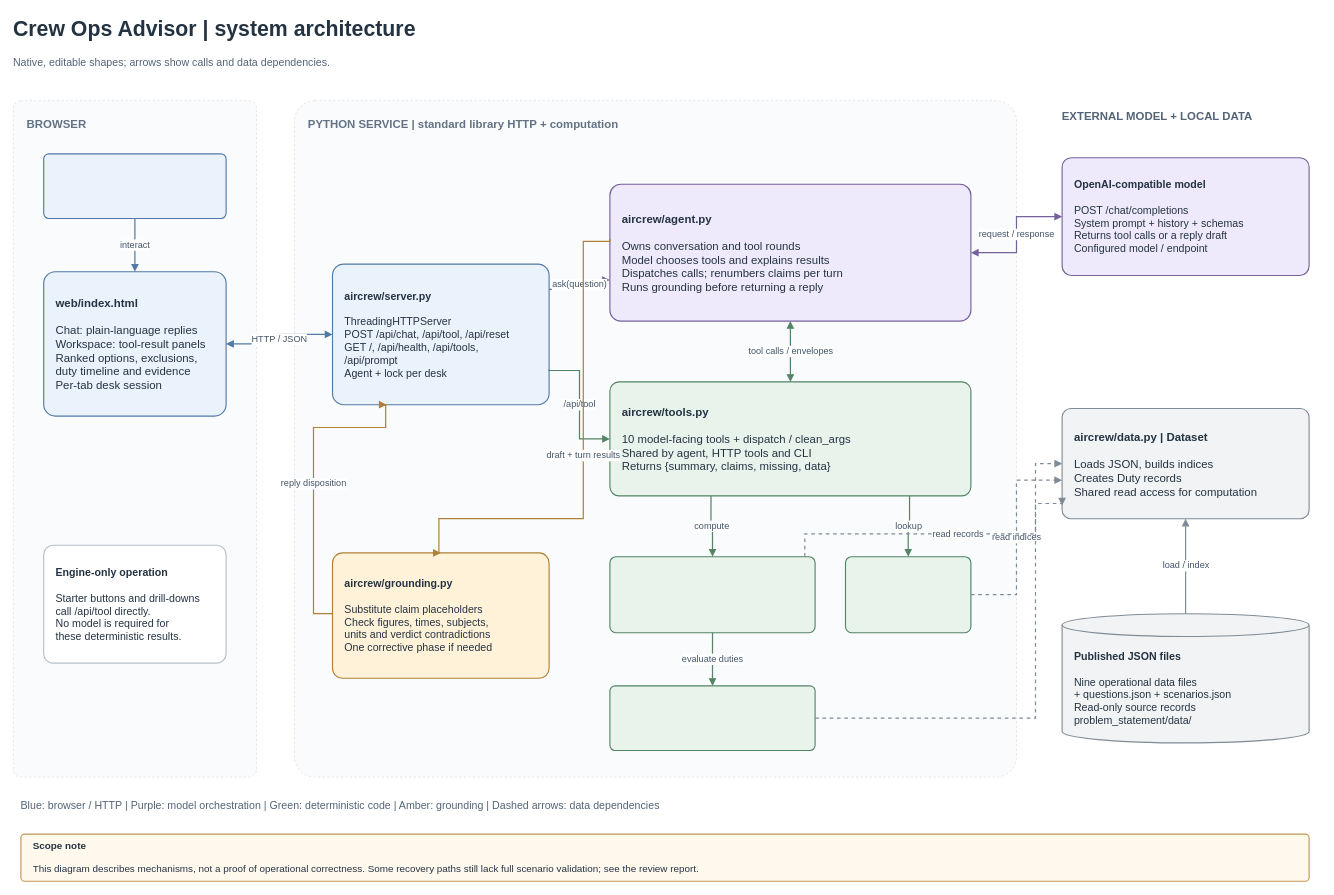
Image size: 1334x895. Some labels were removed from this diagram. The centre of each missing label's shape, as x and y in pixels:
"aircrew/engine.py Assignment, impact, cost, ranking and recovery" goes at pixel 712 594.
"aircrew/rules.py Seven rules; structured Findings" goes at pixel 712 718.
"Crew controller Question, disruption or drill-down" goes at pixel 134 186.
"query.py Typed lookups and profiles" goes at pixel 908 594.
